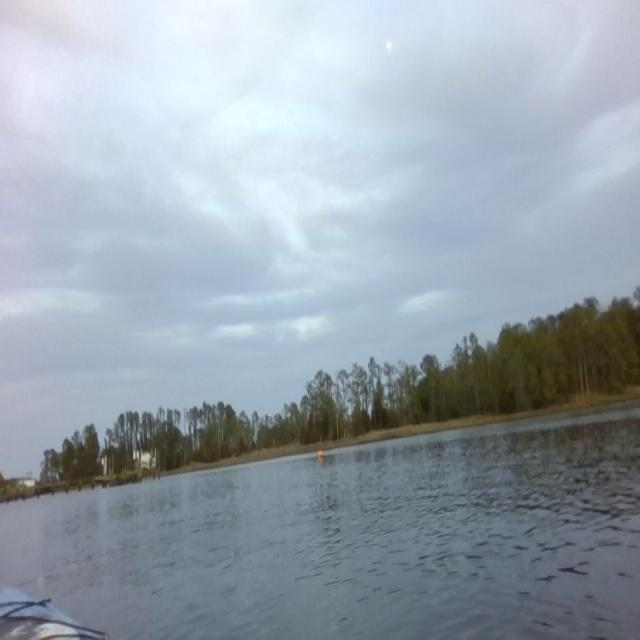Buoy: (316, 447, 324, 461)
